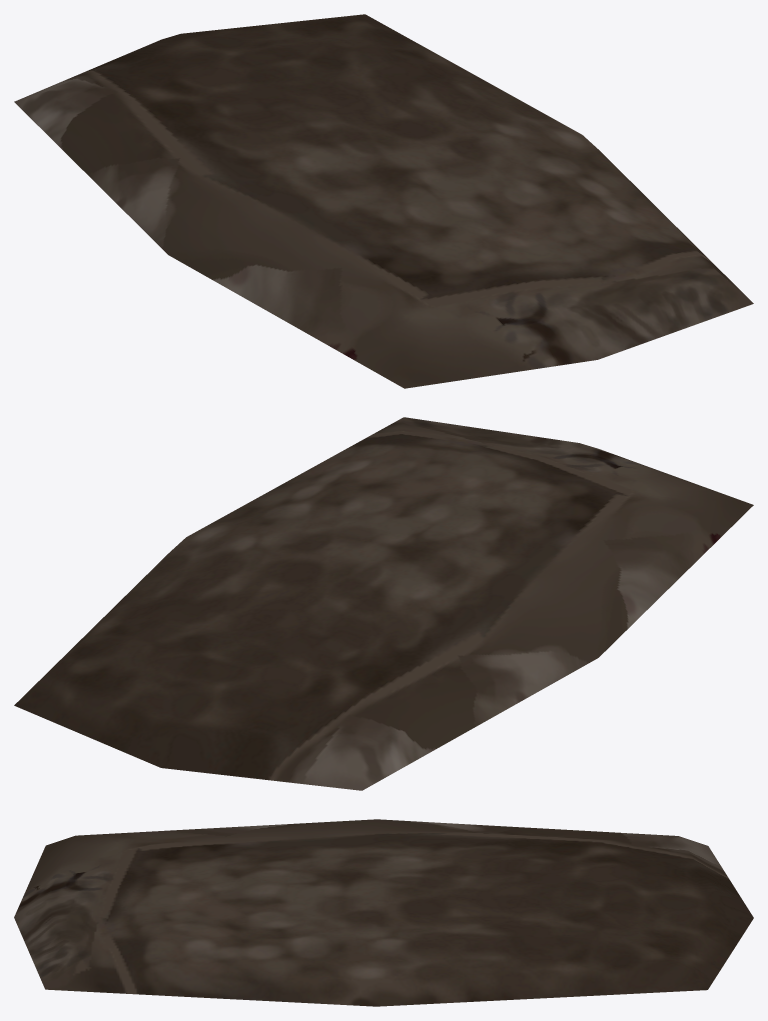
File: model_chunk_2.glb
3 views of the same model, one above another, from view 1: azimuth 30°, elevation 25°; view 2: azimuth 150°, elevation 25°; view 3: azimuth 270°, elevation 25° (orthographic). The views are drawn at different scales.
Parts seen in each view (by area): view 1: Tomb_Soil001; view 2: Tomb_Soil001; view 3: Tomb_Soil001.
Boxes of the visible parts, x1=… form: Tomb_Soil001: x1=14, y1=14, x2=753, y2=388; Tomb_Soil001: x1=14, y1=417, x2=753, y2=790; Tomb_Soil001: x1=14, y1=819, x2=753, y2=1006.
Bounding box in the file's own units: 1.02 × 0.1019 × 1.8.
1 material, 1 textured.
